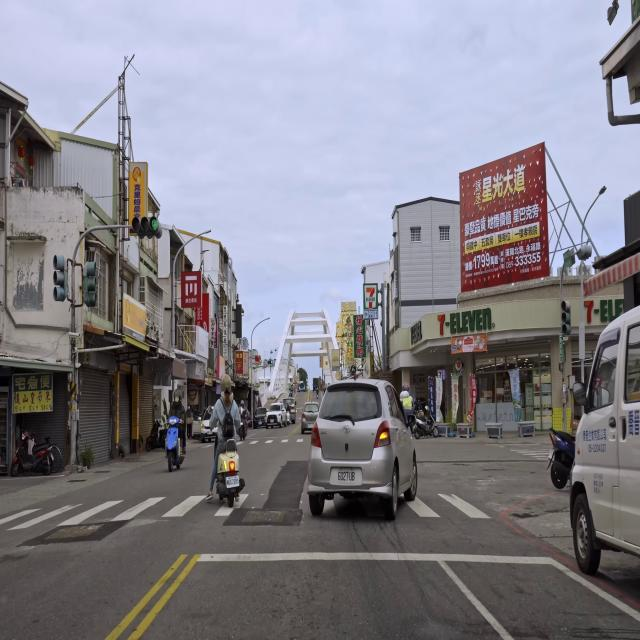green light: (131, 217, 159, 232)
